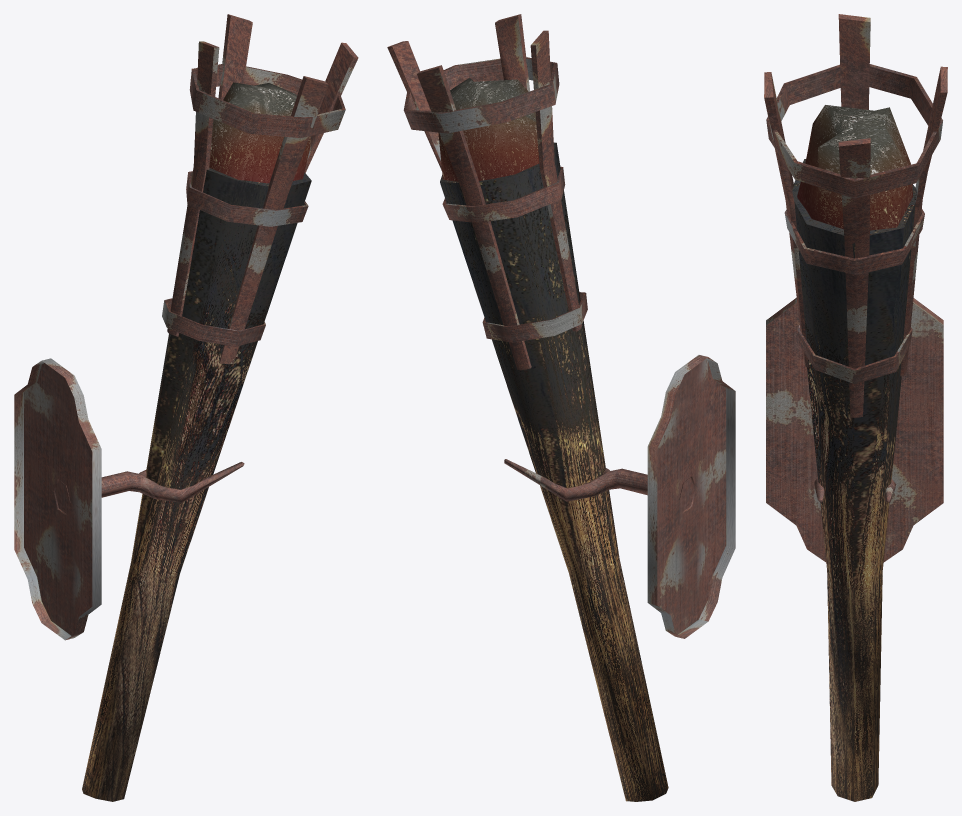
Rendered from 005_taimatu_02_11.fbx.
The picture shows the model from 3 angles, left to right: view 1: azimuth 30°, elevation 25°; view 2: azimuth 150°, elevation 25°; view 3: azimuth 270°, elevation 25°; orthographic projection. The views are drawn at different scales.
Parts seen in each view (by area): view 1: taimatu001; view 2: taimatu001; view 3: taimatu001.
Part boxes in pixels (x1,y1,x2,y2): taimatu001: [14, 14, 358, 801]; taimatu001: [387, 14, 735, 801]; taimatu001: [764, 14, 947, 801].
Size of the model in its own units: 6.54 by 15.24 by 3.04.
